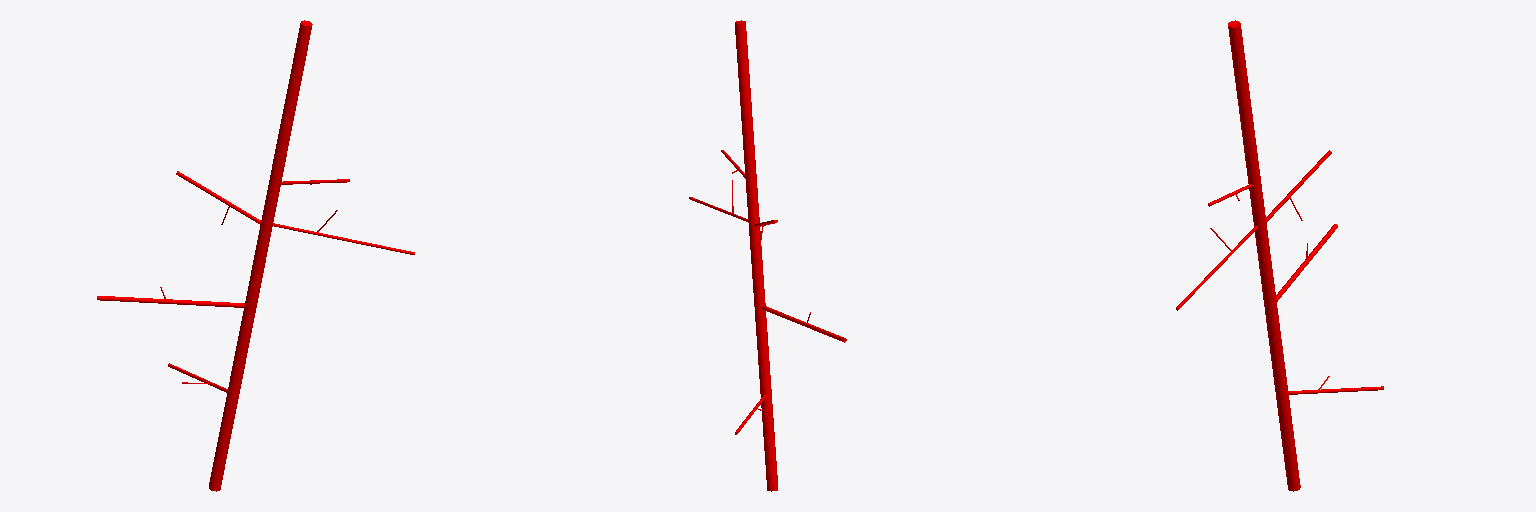
robot.urdf — tree_194.urdf:
<?xml version='1.0' encoding='UTF-8'?>
<robot name="tree_194.urdf">
  <link name="branch_0">
    <inertial>
      <origin xyz="0.0 0.0 0.0" rpy="0.0 -0.0 0.0"/>
      <mass value="0.1"/>
      <inertia ixx="0.001" ixy="0.0" ixz="0.0" iyy="0.001" iyz="0.0" izz="0.001"/>
    </inertial>
    <visual name="branch_0_visual">
      <geometry>
        <cylinder radius="0.08858820343454196" length="7.65534526188286"/>
      </geometry>
      <material name="semantic_material"/>
      <origin xyz="0.5341681038757157 -0.4126071711858334 3.767691273014011" rpy="0.0 0.17726562252101935 -0.6577020978822177"/>
    </visual>
    <collision name="branch_0_collision">
      <geometry>
        <cylinder radius="0.08858820343454196" length="7.65534526188286"/>
      </geometry>
      <origin xyz="0.5341681038757157 -0.4126071711858334 3.767691273014011" rpy="0.0 0.17726562252101935 -0.6577020978822177"/>
    </collision>
  </link>
  <link name="branch_1">
    <inertial>
      <origin xyz="0.0 0.0 0.0" rpy="0.0 -0.0 0.0"/>
      <mass value="0.1"/>
      <inertia ixx="0.001" ixy="0.0" ixz="0.0" iyy="0.001" iyz="0.0" izz="0.001"/>
    </inertial>
    <visual name="branch_1_visual">
      <geometry>
        <cylinder radius="0.02449512937431852" length="1.0955409567042464"/>
      </geometry>
      <material name="semantic_material"/>
      <origin xyz="0.0 0.0 0.0" rpy="0.0 -0.0 0.0"/>
    </visual>
    <collision name="branch_1_collision">
      <geometry>
        <cylinder radius="0.02449512937431852" length="1.0955409567042464"/>
      </geometry>
      <origin xyz="0.0 0.0 0.0" rpy="0.0 -0.0 0.0"/>
    </collision>
  </link>
  <link name="branch_2">
    <inertial>
      <origin xyz="0.0 0.0 0.0" rpy="0.0 -0.0 0.0"/>
      <mass value="0.1"/>
      <inertia ixx="0.001" ixy="0.0" ixz="0.0" iyy="0.001" iyz="0.0" izz="0.001"/>
    </inertial>
    <visual name="branch_2_visual">
      <geometry>
        <cylinder radius="0.01" length="0.1332027673723645"/>
      </geometry>
      <material name="semantic_material"/>
      <origin xyz="0.0 0.0 0.0" rpy="0.0 -0.0 0.0"/>
    </visual>
    <collision name="branch_2_collision">
      <geometry>
        <cylinder radius="0.01" length="0.1332027673723645"/>
      </geometry>
      <origin xyz="0.0 0.0 0.0" rpy="0.0 -0.0 0.0"/>
    </collision>
  </link>
  <link name="branch_3">
    <inertial>
      <origin xyz="0.0 0.0 0.0" rpy="0.0 -0.0 0.0"/>
      <mass value="0.1"/>
      <inertia ixx="0.001" ixy="0.0" ixz="0.0" iyy="0.001" iyz="0.0" izz="0.001"/>
    </inertial>
    <visual name="branch_3_visual">
      <geometry>
        <cylinder radius="0.02260378345706755" length="2.1950089516951095"/>
      </geometry>
      <material name="semantic_material"/>
      <origin xyz="0.0 0.0 0.0" rpy="0.0 -0.0 0.0"/>
    </visual>
    <collision name="branch_3_collision">
      <geometry>
        <cylinder radius="0.02260378345706755" length="2.1950089516951095"/>
      </geometry>
      <origin xyz="0.0 0.0 0.0" rpy="0.0 -0.0 0.0"/>
    </collision>
  </link>
  <link name="branch_4">
    <inertial>
      <origin xyz="0.0 0.0 0.0" rpy="0.0 -0.0 0.0"/>
      <mass value="0.1"/>
      <inertia ixx="0.001" ixy="0.0" ixz="0.0" iyy="0.001" iyz="0.0" izz="0.001"/>
    </inertial>
    <visual name="branch_4_visual">
      <geometry>
        <cylinder radius="0.01" length="0.5668871545045728"/>
      </geometry>
      <material name="semantic_material"/>
      <origin xyz="0.0 0.0 0.0" rpy="0.0 -0.0 0.0"/>
    </visual>
    <collision name="branch_4_collision">
      <geometry>
        <cylinder radius="0.01" length="0.5668871545045728"/>
      </geometry>
      <origin xyz="0.0 0.0 0.0" rpy="0.0 -0.0 0.0"/>
    </collision>
  </link>
  <link name="branch_5">
    <inertial>
      <origin xyz="0.0 0.0 0.0" rpy="0.0 -0.0 0.0"/>
      <mass value="0.1"/>
      <inertia ixx="0.001" ixy="0.0" ixz="0.0" iyy="0.001" iyz="0.0" izz="0.001"/>
    </inertial>
    <visual name="branch_5_visual">
      <geometry>
        <cylinder radius="0.03469199596545056" length="2.2570029309660202"/>
      </geometry>
      <material name="semantic_material"/>
      <origin xyz="0.0 0.0 0.0" rpy="0.0 -0.0 0.0"/>
    </visual>
    <collision name="branch_5_collision">
      <geometry>
        <cylinder radius="0.03469199596545056" length="2.2570029309660202"/>
      </geometry>
      <origin xyz="0.0 0.0 0.0" rpy="0.0 -0.0 0.0"/>
    </collision>
  </link>
  <link name="branch_6">
    <inertial>
      <origin xyz="0.0 0.0 0.0" rpy="0.0 -0.0 0.0"/>
      <mass value="0.1"/>
      <inertia ixx="0.001" ixy="0.0" ixz="0.0" iyy="0.001" iyz="0.0" izz="0.001"/>
    </inertial>
    <visual name="branch_6_visual">
      <geometry>
        <cylinder radius="0.01" length="0.2589289206804755"/>
      </geometry>
      <material name="semantic_material"/>
      <origin xyz="0.0 0.0 0.0" rpy="0.0 -0.0 0.0"/>
    </visual>
    <collision name="branch_6_collision">
      <geometry>
        <cylinder radius="0.01" length="0.2589289206804755"/>
      </geometry>
      <origin xyz="0.0 0.0 0.0" rpy="0.0 -0.0 0.0"/>
    </collision>
  </link>
  <link name="branch_7">
    <inertial>
      <origin xyz="0.0 0.0 0.0" rpy="0.0 -0.0 0.0"/>
      <mass value="0.1"/>
      <inertia ixx="0.001" ixy="0.0" ixz="0.0" iyy="0.001" iyz="0.0" izz="0.001"/>
    </inertial>
    <visual name="branch_7_visual">
      <geometry>
        <cylinder radius="0.026373632476731357" length="1.427050629171534"/>
      </geometry>
      <material name="semantic_material"/>
      <origin xyz="0.0 0.0 0.0" rpy="0.0 -0.0 0.0"/>
    </visual>
    <collision name="branch_7_collision">
      <geometry>
        <cylinder radius="0.026373632476731357" length="1.427050629171534"/>
      </geometry>
      <origin xyz="0.0 0.0 0.0" rpy="0.0 -0.0 0.0"/>
    </collision>
  </link>
  <link name="branch_8">
    <inertial>
      <origin xyz="0.0 0.0 0.0" rpy="0.0 -0.0 0.0"/>
      <mass value="0.1"/>
      <inertia ixx="0.001" ixy="0.0" ixz="0.0" iyy="0.001" iyz="0.0" izz="0.001"/>
    </inertial>
    <visual name="branch_8_visual">
      <geometry>
        <cylinder radius="0.01" length="0.4266441609624668"/>
      </geometry>
      <material name="semantic_material"/>
      <origin xyz="0.0 0.0 0.0" rpy="0.0 -0.0 0.0"/>
    </visual>
    <collision name="branch_8_collision">
      <geometry>
        <cylinder radius="0.01" length="0.4266441609624668"/>
      </geometry>
      <origin xyz="0.0 0.0 0.0" rpy="0.0 -0.0 0.0"/>
    </collision>
  </link>
  <link name="branch_9">
    <inertial>
      <origin xyz="0.0 0.0 0.0" rpy="0.0 -0.0 0.0"/>
      <mass value="0.1"/>
      <inertia ixx="0.001" ixy="0.0" ixz="0.0" iyy="0.001" iyz="0.0" izz="0.001"/>
    </inertial>
    <visual name="branch_9_visual">
      <geometry>
        <cylinder radius="0.028864208674236218" length="1.5162889581547756"/>
      </geometry>
      <material name="semantic_material"/>
      <origin xyz="0.0 0.0 0.0" rpy="0.0 -0.0 0.0"/>
    </visual>
    <collision name="branch_9_collision">
      <geometry>
        <cylinder radius="0.028864208674236218" length="1.5162889581547756"/>
      </geometry>
      <origin xyz="0.0 0.0 0.0" rpy="0.0 -0.0 0.0"/>
    </collision>
  </link>
  <link name="branch_10">
    <inertial>
      <origin xyz="0.0 0.0 0.0" rpy="0.0 -0.0 0.0"/>
      <mass value="0.1"/>
      <inertia ixx="0.001" ixy="0.0" ixz="0.0" iyy="0.001" iyz="0.0" izz="0.001"/>
    </inertial>
    <visual name="branch_10_visual">
      <geometry>
        <cylinder radius="0.01" length="0.43375252396844843"/>
      </geometry>
      <material name="semantic_material"/>
      <origin xyz="0.0 0.0 0.0" rpy="0.0 -0.0 0.0"/>
    </visual>
    <collision name="branch_10_collision">
      <geometry>
        <cylinder radius="0.01" length="0.43375252396844843"/>
      </geometry>
      <origin xyz="0.0 0.0 0.0" rpy="0.0 -0.0 0.0"/>
    </collision>
  </link>
  <joint name="joint_0_1" type="fixed">
    <parent link="branch_0"/>
    <child link="branch_1"/>
    <axis xyz="1. 0. 0."/>
    <origin xyz="1.1455098802223573 -0.8574681624499179 4.988366570091402" rpy="0.08511578062467959 1.4858172379902626 -0.5326020607799216"/>
  </joint>
  <joint name="joint_0_3" type="fixed">
    <parent link="branch_0"/>
    <child link="branch_3"/>
    <axis xyz="1. 0. 0."/>
    <origin xyz="1.5181784987953288 -1.0419792389431017 4.06905422701756" rpy="3.060854733815697 1.3631345255024285 2.4978439921530553"/>
  </joint>
  <joint name="joint_0_5" type="fixed">
    <parent link="branch_0"/>
    <child link="branch_5"/>
    <axis xyz="1. 0. 0."/>
    <origin xyz="-0.6095527517829556 0.12249182351774712 3.0823729978059466" rpy="-0.37441727508514605 1.4525104206280945 2.3553996117860527"/>
  </joint>
  <joint name="joint_0_7" type="fixed">
    <parent link="branch_0"/>
    <child link="branch_7"/>
    <axis xyz="1. 0. 0."/>
    <origin xyz="0.08566490856211134 0.5326280352831243 1.5133640544708462" rpy="1.8310397859276486 1.447649598528487 -2.696940183780084"/>
  </joint>
  <joint name="joint_0_9" type="fixed">
    <parent link="branch_0"/>
    <child link="branch_9"/>
    <axis xyz="1. 0. 0."/>
    <origin xyz="0.12920099782773733 0.015843383675541275 4.594988526127193" rpy="0.048853817890286776 1.0974728842472004 2.4027656332983676"/>
  </joint>
  <joint name="joint_1_2" type="fixed">
    <parent link="branch_0"/>
    <child link="branch_2"/>
    <axis xyz="1. 0. 0."/>
    <origin xyz="1.1321352197146892 -0.7862778308790553 4.945615285119574" rpy="2.1721277379116137 0.27564407492088605 2.2567926233294067"/>
  </joint>
  <joint name="joint_3_4" type="fixed">
    <parent link="branch_0"/>
    <child link="branch_4"/>
    <axis xyz="1. 0. 0."/>
    <origin xyz="1.3057710382040653 -1.0004165362934334 4.368377413986955" rpy="-0.3504938141077338 -0.5676588702984691 2.7108796599816527"/>
  </joint>
  <joint name="joint_5_6" type="fixed">
    <parent link="branch_0"/>
    <child link="branch_6"/>
    <axis xyz="1. 0. 0."/>
    <origin xyz="-0.7522481243101793 0.17491525171019065 3.2163538636202564" rpy="0.07850270938054392 -0.33422834651183825 -0.44339111132089243"/>
  </joint>
  <joint name="joint_7_8" type="fixed">
    <parent link="branch_0"/>
    <child link="branch_8"/>
    <axis xyz="1. 0. 0."/>
    <origin xyz="-0.07224108335486851 0.39846313028802444 1.5413405204724517" rpy="1.4708839347601113 -0.09830686587154777 -1.933084610645124"/>
  </joint>
  <joint name="joint_9_10" type="fixed">
    <parent link="branch_0"/>
    <child link="branch_10"/>
    <axis xyz="1. 0. 0."/>
    <origin xyz="0.20301411179308557 0.017006925988240815 4.334136860850417" rpy="-2.902331095781756 0.3751248436133022 -0.8204336426298905"/>
  </joint>
  <material name="semantic_material">
    <color rgba="1. 0. 0. 1."/>
  </material>
</robot>

--- Facts derived from the render (not from the file) ---
3 views of the same robot in one strip: view 1: azimuth 30°, elevation 25°; view 2: azimuth 150°, elevation 25°; view 3: azimuth 270°, elevation 25° (orthographic).
Model tree_194.urdf with 11 links and 10 joints (10 fixed), rooted at branch_0, posed all joints at 0.
Visible links, largest first — view 1: branch_0, branch_5; view 2: branch_0; view 3: branch_0.
Link boxes in pixels (x1,y1,x2,y2): branch_0: (209,20,312,491); branch_5: (97,296,244,307); branch_0: (735,20,777,491); branch_0: (1228,20,1300,491).
Size in the robot's own frame: 4.09 by 2.87 by 7.57 metres.
Geometry: primitives only (box / cylinder / sphere), no mesh files.
